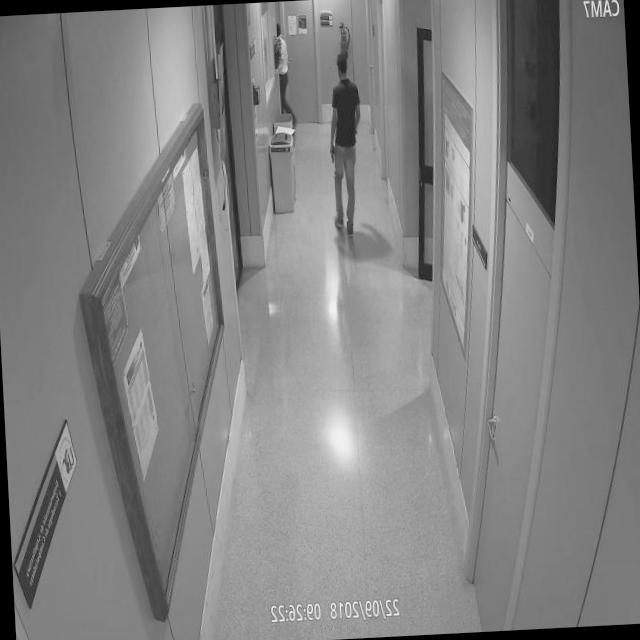gun: (326, 138, 338, 170)
person: (272, 20, 298, 136)
person with a gun: (319, 50, 366, 236)
